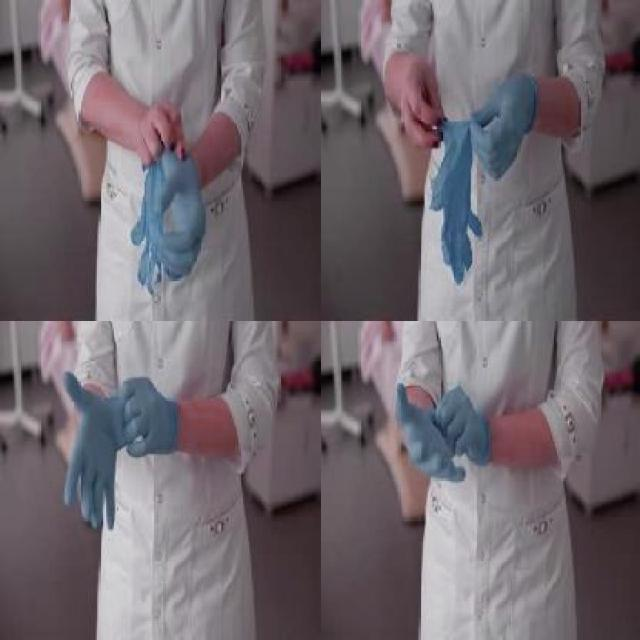hand_glove: (61, 372, 117, 528), (394, 384, 466, 482), (468, 77, 529, 178), (118, 374, 168, 458), (435, 383, 482, 459)
hand_noglove: (398, 50, 442, 150), (134, 98, 188, 160)
